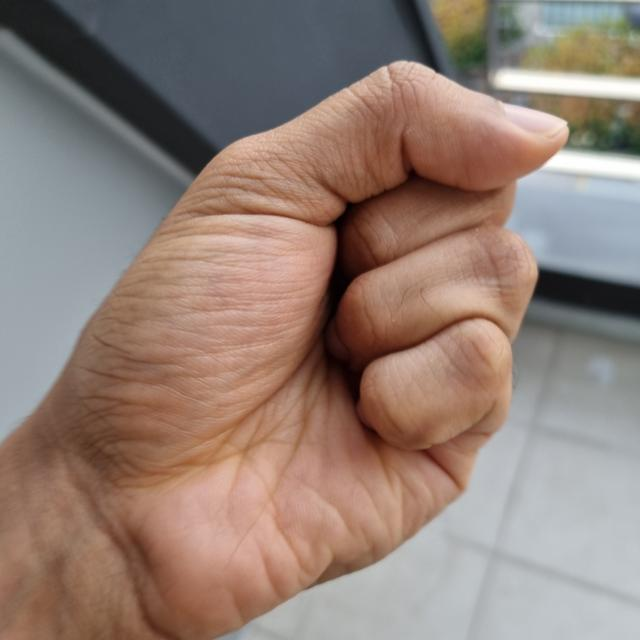Rock: (1, 56, 575, 639)
